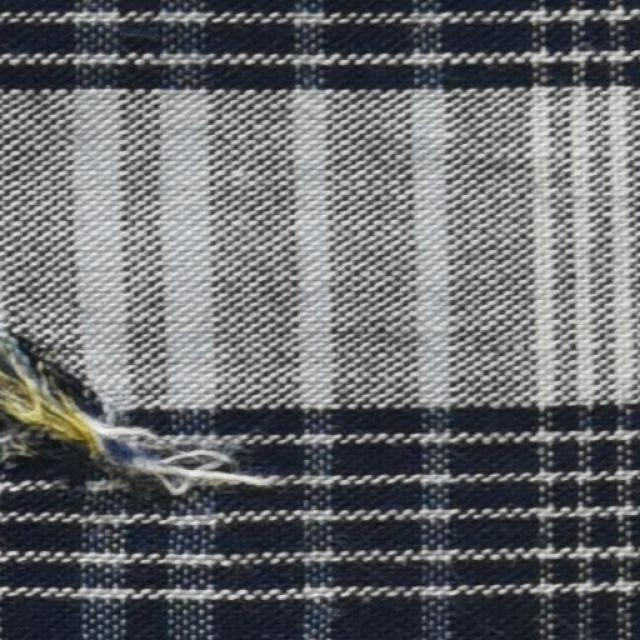Snag: (5, 343, 253, 509)
Stain: (3, 367, 102, 443)
